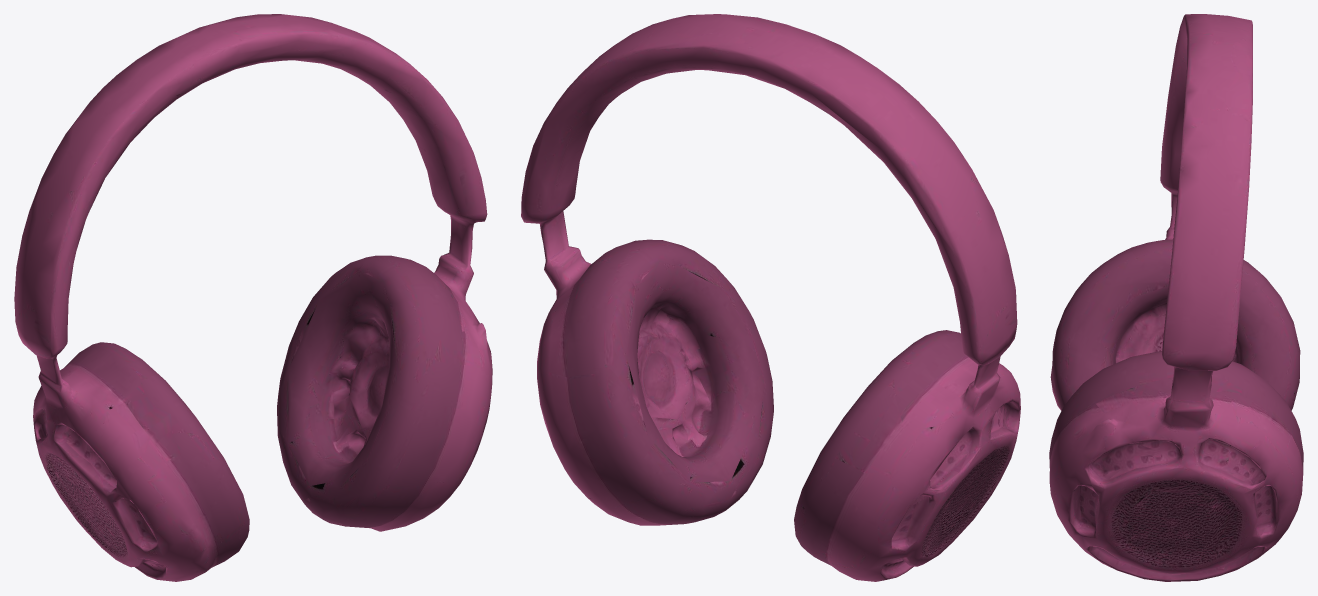
Rendered from fone_rosa.glb.
The picture shows the model from 3 angles, left to right: view 1: azimuth 30°, elevation 25°; view 2: azimuth 150°, elevation 25°; view 3: azimuth 270°, elevation 25°; orthographic projection. The views are drawn at different scales.
Visible parts, largest first — view 1: Prop_fone; view 2: Prop_fone; view 3: Prop_fone.
Part boxes in pixels (x1,y1,x2,y2): Prop_fone: [14, 14, 492, 581]; Prop_fone: [521, 14, 1020, 581]; Prop_fone: [1049, 14, 1303, 581].
Bounding box in the file's own units: 0.184 × 0.2 × 0.0942.
1 material, 1 textured.
